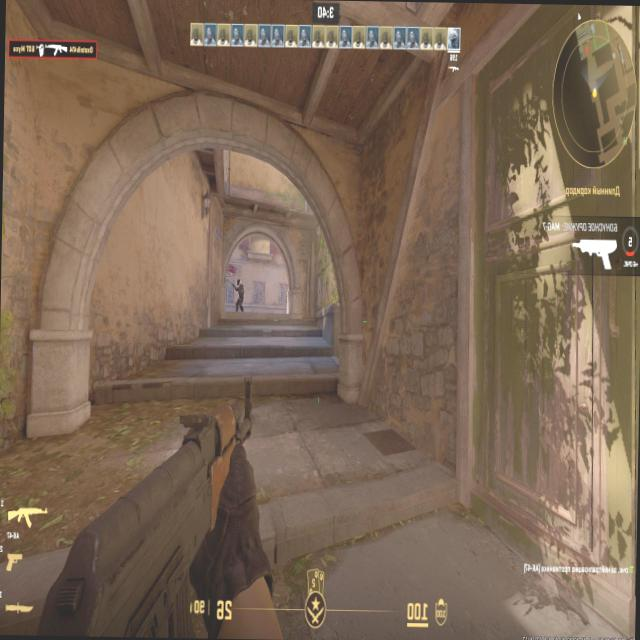CT: (236, 278, 241, 308)
CT_heat: (238, 282, 240, 288)
